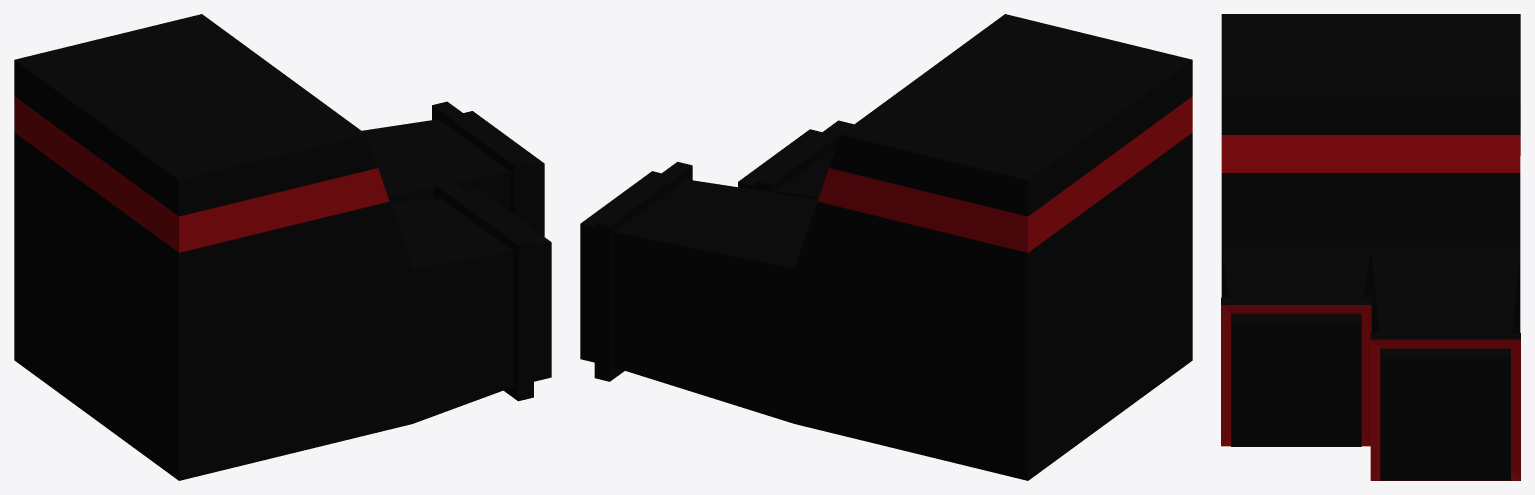
File: fbx_pants_Punk.fbx
3 views of the same model, side by side, from view 1: azimuth 30°, elevation 25°; view 2: azimuth 150°, elevation 25°; view 3: azimuth 270°, elevation 25° (orthographic). The views are drawn at different scales.
Parts seen in each view (by area): view 1: sm_pants_Pnk; view 2: sm_pants_Pnk; view 3: sm_pants_Pnk.
Part boxes in pixels (x1,y1,x2,y2): sm_pants_Pnk: [14, 14, 551, 480]; sm_pants_Pnk: [580, 14, 1192, 480]; sm_pants_Pnk: [1221, 14, 1520, 480].
Bounding box in the file's own units: 48.68 × 31.16 × 30.77.
